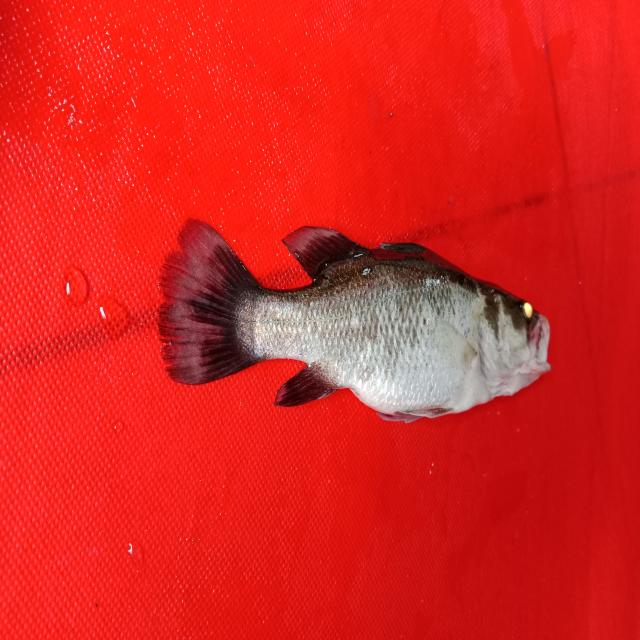ikan: (143, 170, 579, 442)
